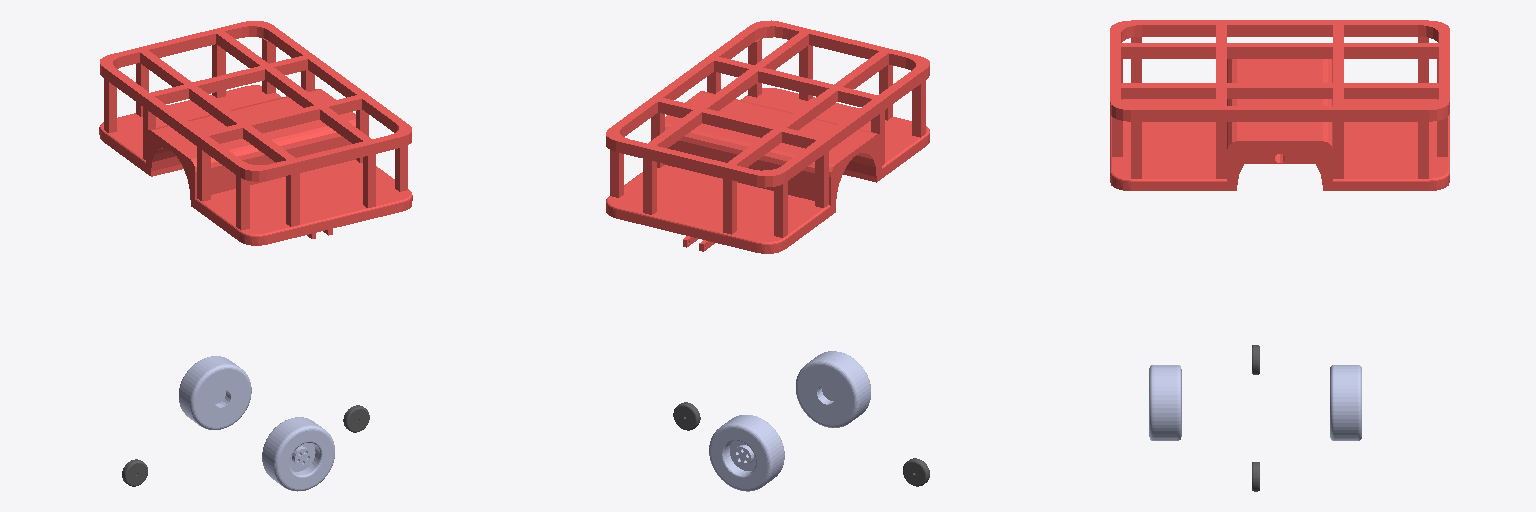
robot.urdf — car_model_t3:
<?xml version="1.0" encoding="utf-8"?>
<!-- This URDF was automatically created by SolidWorks to URDF Exporter! Originally created by [author] ([email redacted]) 
     Commit Version: 1.5.0-0-g9aa0fdb  Build Version: 1.5.7004.21443
     For more information, please see http://wiki.ros.org/sw_urdf_exporter -->
<robot
  name="car_model_t3">
  <link
    name="base_link">
    <inertial>
      <origin
        xyz="-6.4312E-06 5.2042E-18 0.014523"
        rpy="0 0 0" />
      <mass
        value="0.18739" />
      <inertia
        ixx="0.00018258"
        ixy="-5.4904E-20"
        ixz="-2.7143E-08"
        iyy="0.00035976"
        iyz="-2.4274E-21"
        izz="0.00047754" />
    </inertial>
    <visual>
      <origin
        xyz="0 0 0"
        rpy="0 0 0" />
      <geometry>
        <mesh
          filename="package://car_model_t3/meshes/base_link.STL" />
      </geometry>
      <material
        name="">
        <color
          rgba="1 0.40784 0.39216 1" />
      </material>
    </visual>
    <collision>
      <origin
        xyz="0 0 0"
        rpy="0 0 0" />
      <geometry>
        <mesh
          filename="package://car_model_t3/meshes/base_link.STL" />
      </geometry>
    </collision>
  </link>
  <link
    name="left_wheel">
    <inertial>
      <origin
        xyz="0 -0.000329621353782034 0"
        rpy="0 0 0" />
      <mass
        value="0.0133510458756028" />
      <inertia
        ixx="1.40543198066055E-06"
        ixy="3.74302421644642E-23"
        ixz="3.25957326037322E-24"
        iyy="2.34986077904369E-06"
        iyz="-3.61176480528272E-23"
        izz="1.40543198066055E-06" />
    </inertial>
    <visual>
      <origin
        xyz="0 0 0"
        rpy="0 0 0" />
      <geometry>
        <mesh
          filename="package://car_model_t3/meshes/left_wheel.STL" />
      </geometry>
      <material
        name="">
        <color
          rgba="0.796078431372549 0.823529411764706 0.937254901960784 1" />
      </material>
    </visual>
    <collision>
      <origin
        xyz="0 0 0"
        rpy="0 0 0" />
      <geometry>
        <mesh
          filename="package://car_model_t3/meshes/left_wheel.STL" />
      </geometry>
    </collision>
  </link>
  <joint
    name="base_to_left"
    type="continuous">
    <origin
      xyz="0 0.0425 0.003"
      rpy="0 0 0" />
    <parent
      link="base_link" />
    <child
      link="left_wheel" />
    <axis
      xyz="0 -1 0" />
    <safety_controller
      k_velocity="0" />
  </joint>
  <link
    name="right_wheel">
    <inertial>
      <origin
        xyz="0 0.00033062976853792 -2.77555756156289E-17"
        rpy="0 0 0" />
      <mass
        value="0.0134528334775791" />
      <inertia
        ixx="1.41844953412818E-06"
        ixy="-3.67641777769333E-23"
        ixz="-1.10140759586958E-23"
        iyy="2.36635037056385E-06"
        iyz="-3.80019189206278E-23"
        izz="1.41844953412819E-06" />
    </inertial>
    <visual>
      <origin
        xyz="0 0 0"
        rpy="0 0 0" />
      <geometry>
        <mesh
          filename="package://car_model_t3/meshes/right_wheel.STL" />
      </geometry>
      <material
        name="">
        <color
          rgba="0.796078431372549 0.823529411764706 0.937254901960784 1" />
      </material>
    </visual>
    <collision>
      <origin
        xyz="0 0 0"
        rpy="0 0 0" />
      <geometry>
        <mesh
          filename="package://car_model_t3/meshes/right_wheel.STL" />
      </geometry>
    </collision>
  </link>
  <joint
    name="base_to_right"
    type="continuous">
    <origin
      xyz="0 -0.0425 0.003"
      rpy="0 0 0" />
    <parent
      link="base_link" />
    <child
      link="right_wheel" />
    <axis
      xyz="0 -1 0" />
    <safety_controller
      k_velocity="0" />
  </joint>
  <link
    name="front_wheel">
    <inertial>
      <origin
        xyz="0 8.67361737988404E-19 0"
        rpy="0 0 0" />
      <mass
        value="0.00059040858425101" />
      <inertia
        ixx="7.87484011915424E-09"
        ixy="2.96957093606017E-24"
        ixz="-2.11386849513913E-26"
        iyy="1.42427926298594E-08"
        iyz="-2.68391875529742E-25"
        izz="7.87484011915423E-09" />
    </inertial>
    <visual>
      <origin
        xyz="0 0 0"
        rpy="0 0 0" />
      <geometry>
        <mesh
          filename="package://car_model_t3/meshes/front_wheel.STL" />
      </geometry>
      <material
        name="">
        <color
          rgba="0.411764705882353 0.411764705882353 0.411764705882353 1" />
      </material>
    </visual>
    <collision>
      <origin
        xyz="0 0 0"
        rpy="0 0 0" />
      <geometry>
        <mesh
          filename="package://car_model_t3/meshes/front_wheel.STL" />
      </geometry>
    </collision>
  </link>
  <joint
    name="base_to_front"
    type="continuous">
    <origin
      xyz="0.0585 0 -0.008"
      rpy="0 0 0" />
    <parent
      link="base_link" />
    <child
      link="front_wheel" />
    <axis
      xyz="0 -1 0" />
    <safety_controller
      k_velocity="0" />
  </joint>
  <link
    name="back_wheel">
    <inertial>
      <origin
        xyz="0 0 0"
        rpy="0 0 0" />
      <mass
        value="0.00059040858425101" />
      <inertia
        ixx="7.87484011915423E-09"
        ixy="-1.00689005131593E-24"
        ixz="-3.54301329761112E-24"
        iyy="1.42427926298594E-08"
        iyz="1.34565641763583E-25"
        izz="7.87484011915424E-09" />
    </inertial>
    <visual>
      <origin
        xyz="0 0 0"
        rpy="0 0 0" />
      <geometry>
        <mesh
          filename="package://car_model_t3/meshes/back_wheel.STL" />
      </geometry>
      <material
        name="">
        <color
          rgba="0.411764705882353 0.411764705882353 0.411764705882353 1" />
      </material>
    </visual>
    <collision>
      <origin
        xyz="0 0 0"
        rpy="0 0 0" />
      <geometry>
        <mesh
          filename="package://car_model_t3/meshes/back_wheel.STL" />
      </geometry>
    </collision>
  </link>
  <joint
    name="base_to_back"
    type="continuous">
    <origin
      xyz="-0.0715 0 -0.008"
      rpy="0 0 0" />
    <parent
      link="base_link" />
    <child
      link="back_wheel" />
    <axis
      xyz="0 -1 0" />
    <safety_controller
      k_velocity="0" />
  </joint>
</robot>

--- Render facts (derived) ---
Views: 3 orthographic renders of the robot side by side, from view 1: azimuth 30°, elevation 25°; view 2: azimuth 150°, elevation 25°; view 3: azimuth 270°, elevation 25°.
Robot: car_model_t3 — 5 links, 4 joints (4 continuous); root link base_link; default pose: every joint at zero.
Links seen in each view (by area): view 1: base_link, right_wheel, left_wheel, front_wheel, back_wheel; view 2: base_link, right_wheel, left_wheel, back_wheel, front_wheel; view 3: base_link, right_wheel, left_wheel.
Boxes of the visible links, x1=… form: base_link: x1=99, y1=21, x2=412, y2=245; right_wheel: x1=262, y1=417, x2=334, y2=491; left_wheel: x1=179, y1=356, x2=251, y2=429; front_wheel: x1=343, y1=405, x2=369, y2=432; back_wheel: x1=122, y1=459, x2=147, y2=486; base_link: x1=606, y1=20, x2=929, y2=253; right_wheel: x1=796, y1=351, x2=870, y2=427; left_wheel: x1=709, y1=415, x2=784, y2=491; back_wheel: x1=903, y1=458, x2=929, y2=486; front_wheel: x1=673, y1=402, x2=700, y2=430; base_link: x1=1110, y1=20, x2=1449, y2=190; right_wheel: x1=1149, y1=365, x2=1181, y2=440; left_wheel: x1=1330, y1=365, x2=1361, y2=440.
Bounding box of the posed robot: 0.144 × 0.16 × 0.196 m (x, y, z).
5 mesh visuals loaded from 5 distinct referenced files (5 binary STL).